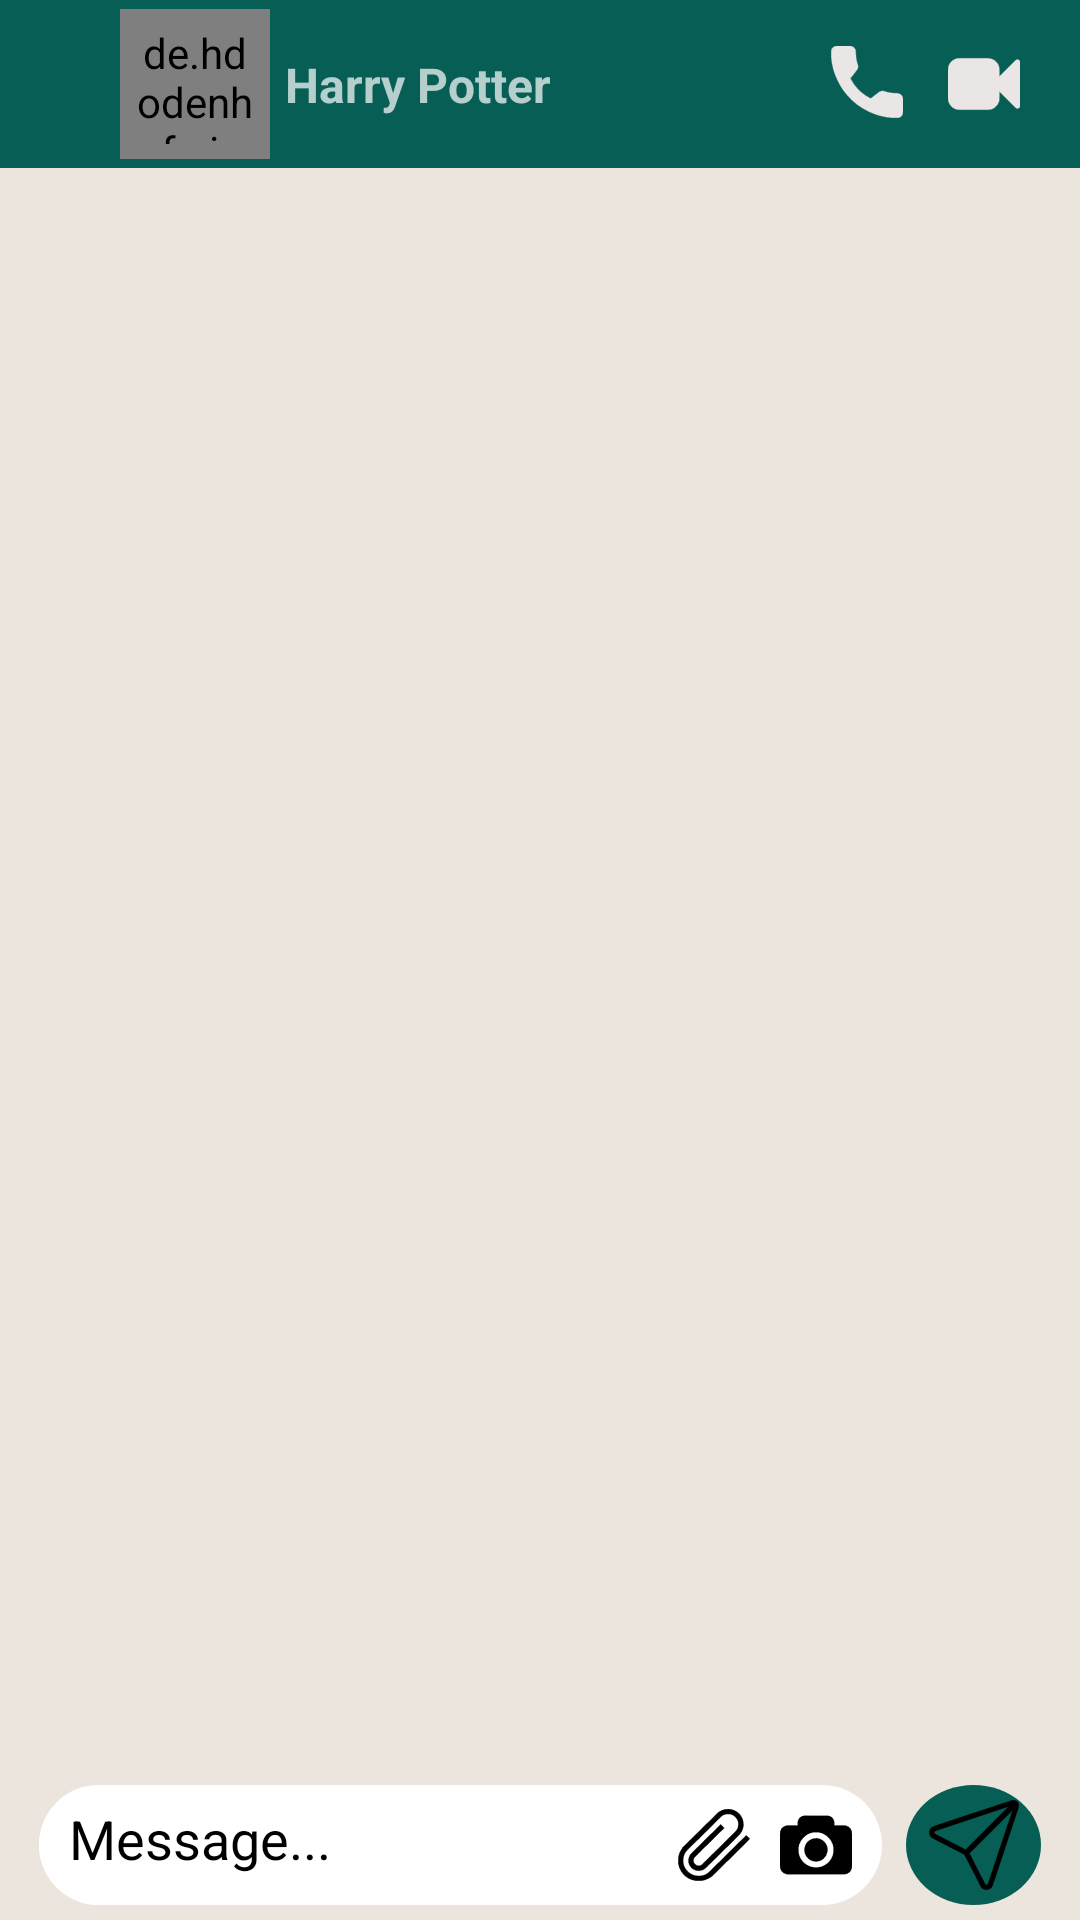

Icons on this 1080×1920 Android screen, each with the point to tap as [x,y]:
attach paperclip symbol: [714,1845]
call: [867,82]
facetime: [984,84]
send: [973,1845]
